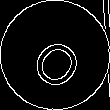O_NE: (22, 22, 88, 88)
